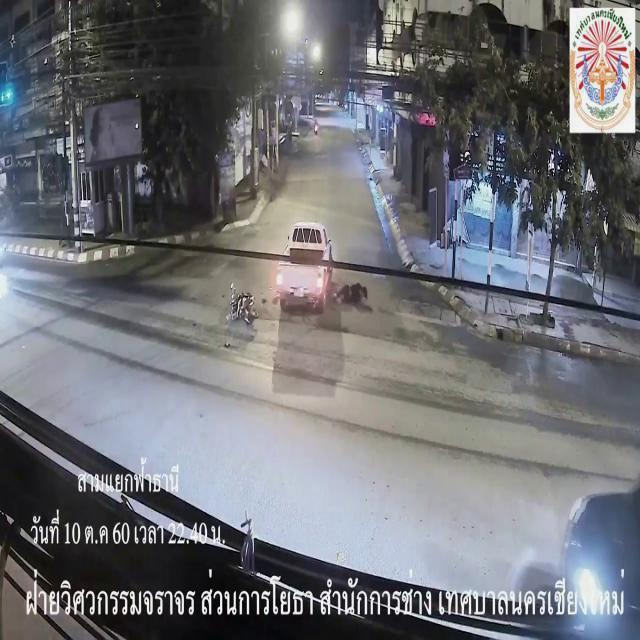accident: (220, 220, 368, 350)
